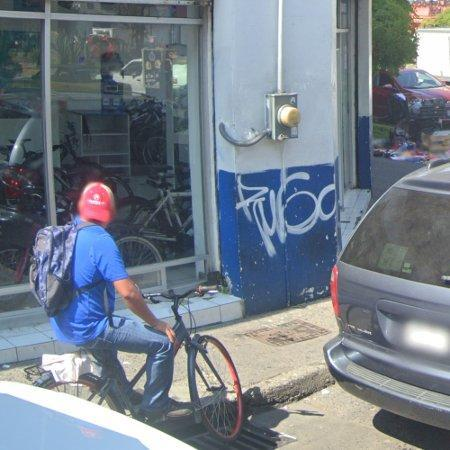bicycles: (147, 291, 244, 441), (24, 366, 146, 416)
